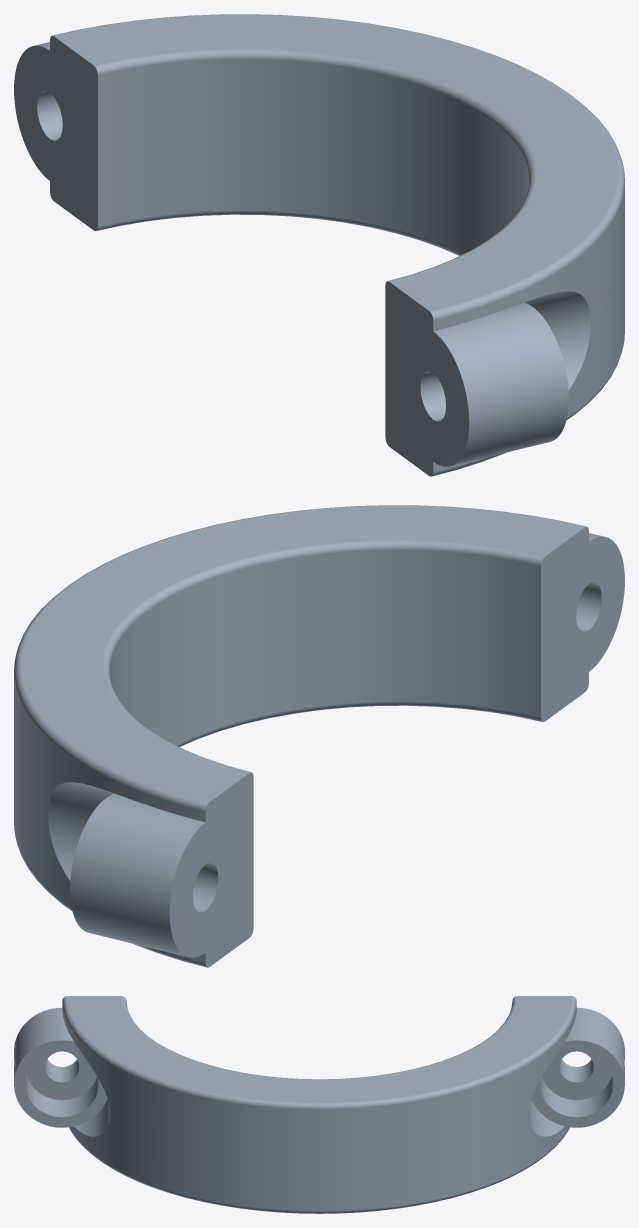
The model's file is articulated_rod_lower.obj.
3 views of the same model, one above another, from view 1: azimuth 30°, elevation 25°; view 2: azimuth 150°, elevation 25°; view 3: azimuth 270°, elevation 25° (orthographic). The views are drawn at different scales.
Parts seen in each view (by area): view 1: 1; view 2: 1; view 3: 1.
Part boxes in pixels (x1,y1,x2,y2): 1: (14, 14, 624, 476); 1: (14, 505, 624, 967); 1: (14, 996, 624, 1213).
Bounding box in the file's own units: 50.8 × 24.13 × 121.
